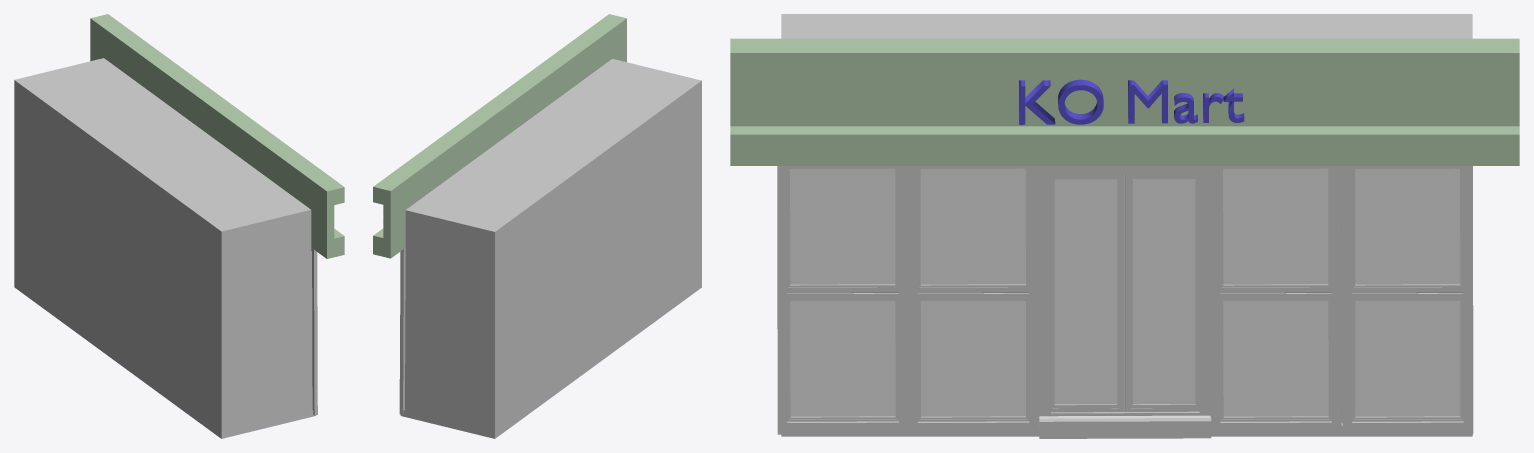
Rendered from ConvenienceStore_1.fbx.
The picture shows the model from 3 angles, left to right: view 1: azimuth 30°, elevation 25°; view 2: azimuth 150°, elevation 25°; view 3: azimuth 270°, elevation 25°; orthographic projection. The views are drawn at different scales.
Parts seen in each view (by area): view 1: Window_L1; view 2: Window_L1; view 3: Window_L1.
Boxes of the visible parts, bbox=[...] form: Window_L1: bbox=[14, 14, 344, 438]; Window_L1: bbox=[373, 14, 701, 438]; Window_L1: bbox=[730, 14, 1519, 438].
Size of the model in its own units: 334 by 699 by 1267.
